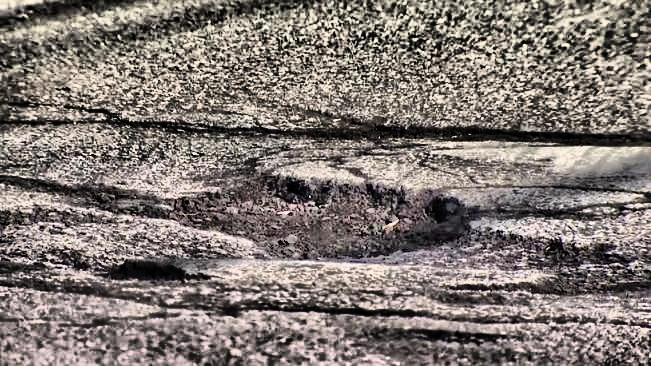pothole: (161, 162, 480, 268)
